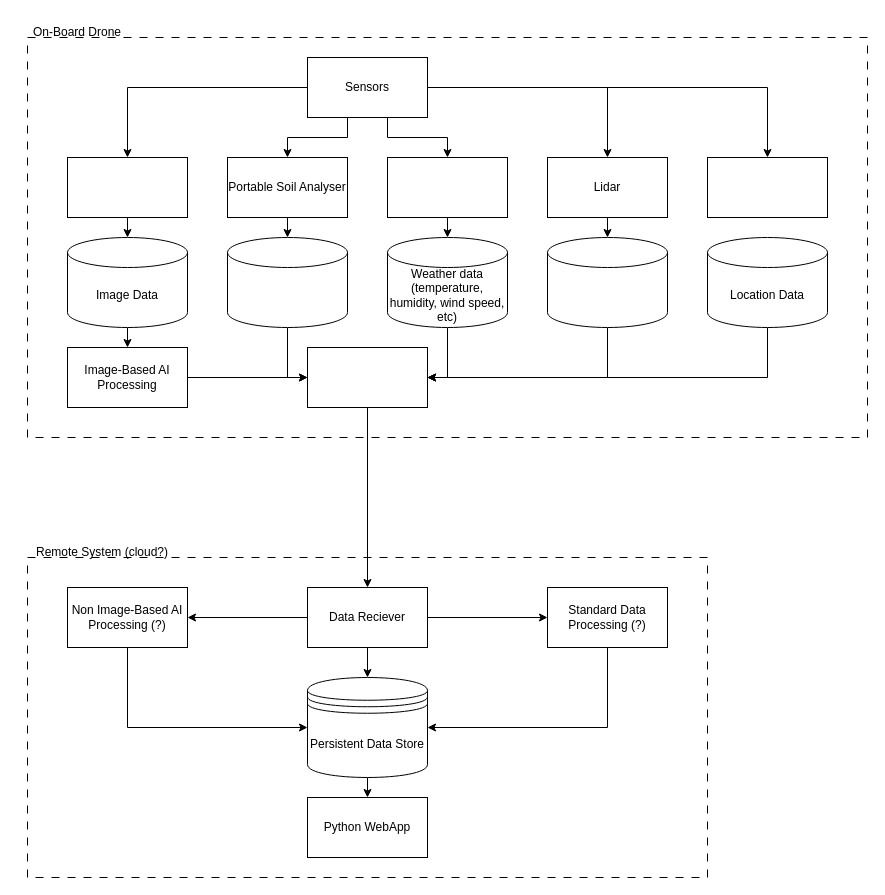
This 885x895 diagram has some shape labels left out. The centre of each missing label's shape, as x and y in pixels:
Camera: the point at 127,187
Data Transmitter: the point at 367,377
GPS: the point at 767,187
Point Cloud Data: the point at 607,282
Smart Weather Station: the point at 447,187
Soil quality data (pH levels, nutrient levels, etc): the point at 287,282
